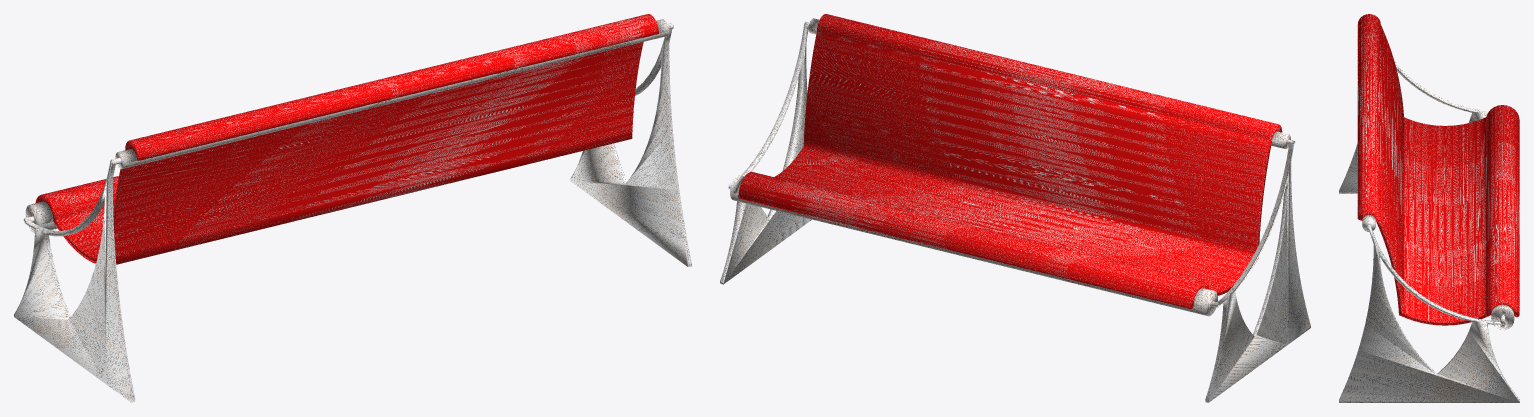
3 renders of one model, left to right at view 1: azimuth 30°, elevation 25°; view 2: azimuth 150°, elevation 25°; view 3: azimuth 270°, elevation 25°, orthographic. The views are drawn at different scales.
Parts seen in each view (by area): view 1: mesh1_mesh1-geometry, mesh2_mesh2-geometry; view 2: mesh1_mesh1-geometry, mesh2_mesh2-geometry; view 3: mesh1_mesh1-geometry, mesh2_mesh2-geometry.
Part boxes in pixels (<box>): mesh1_mesh1-geometry: <box>25,14,691,266</box>; mesh2_mesh2-geometry: <box>14,157,135,402</box>; mesh1_mesh1-geometry: <box>720,14,1290,316</box>; mesh2_mesh2-geometry: <box>1205,139,1310,402</box>; mesh1_mesh1-geometry: <box>1339,14,1519,402</box>; mesh2_mesh2-geometry: <box>1339,61,1519,193</box>.
Size of the model in its own units: 0.8764 by 0.3617 by 0.3181.
